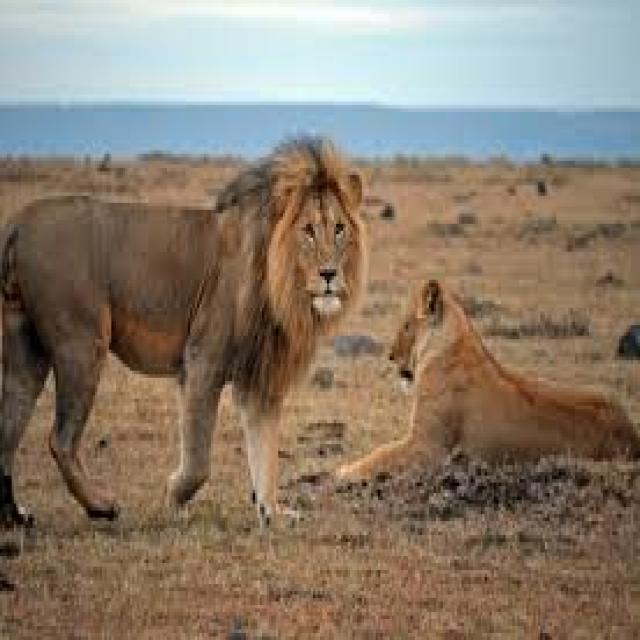Lion: (0, 136, 364, 525)
